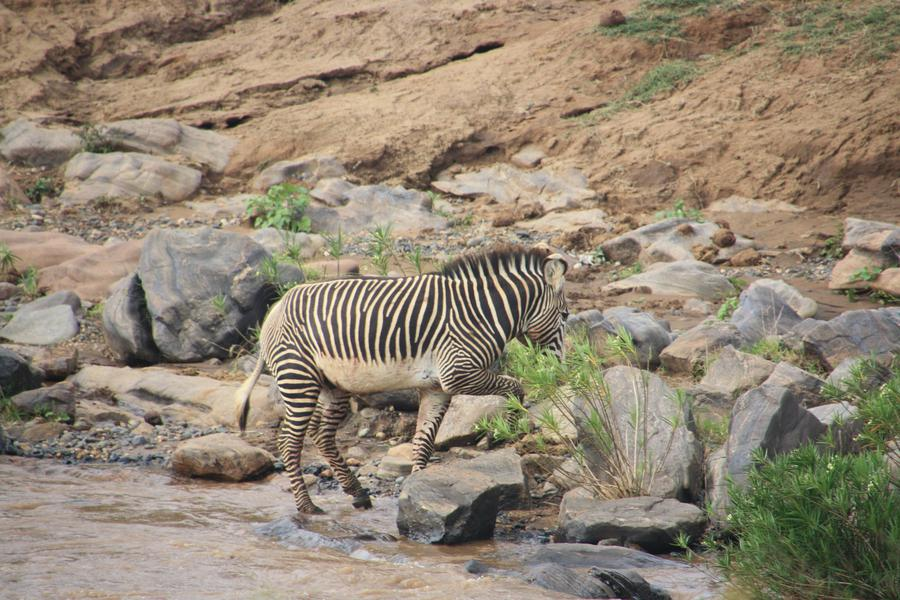zebra_grevys: (246, 258, 502, 369)
